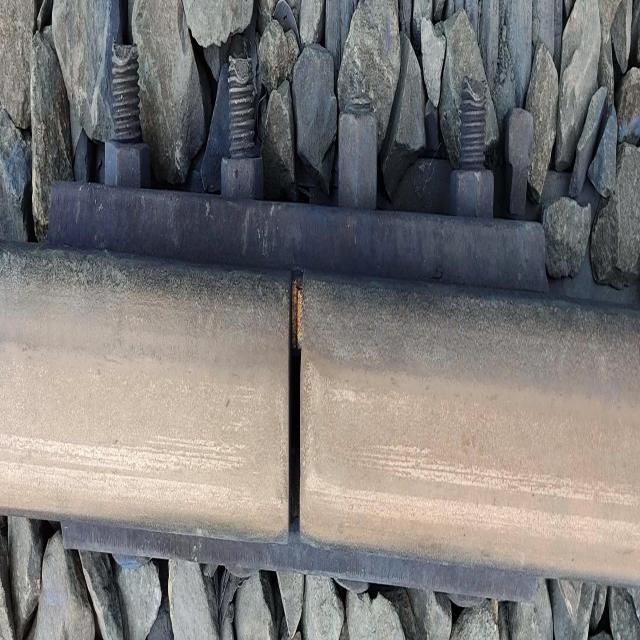Good Joint: (31, 55, 551, 614)
